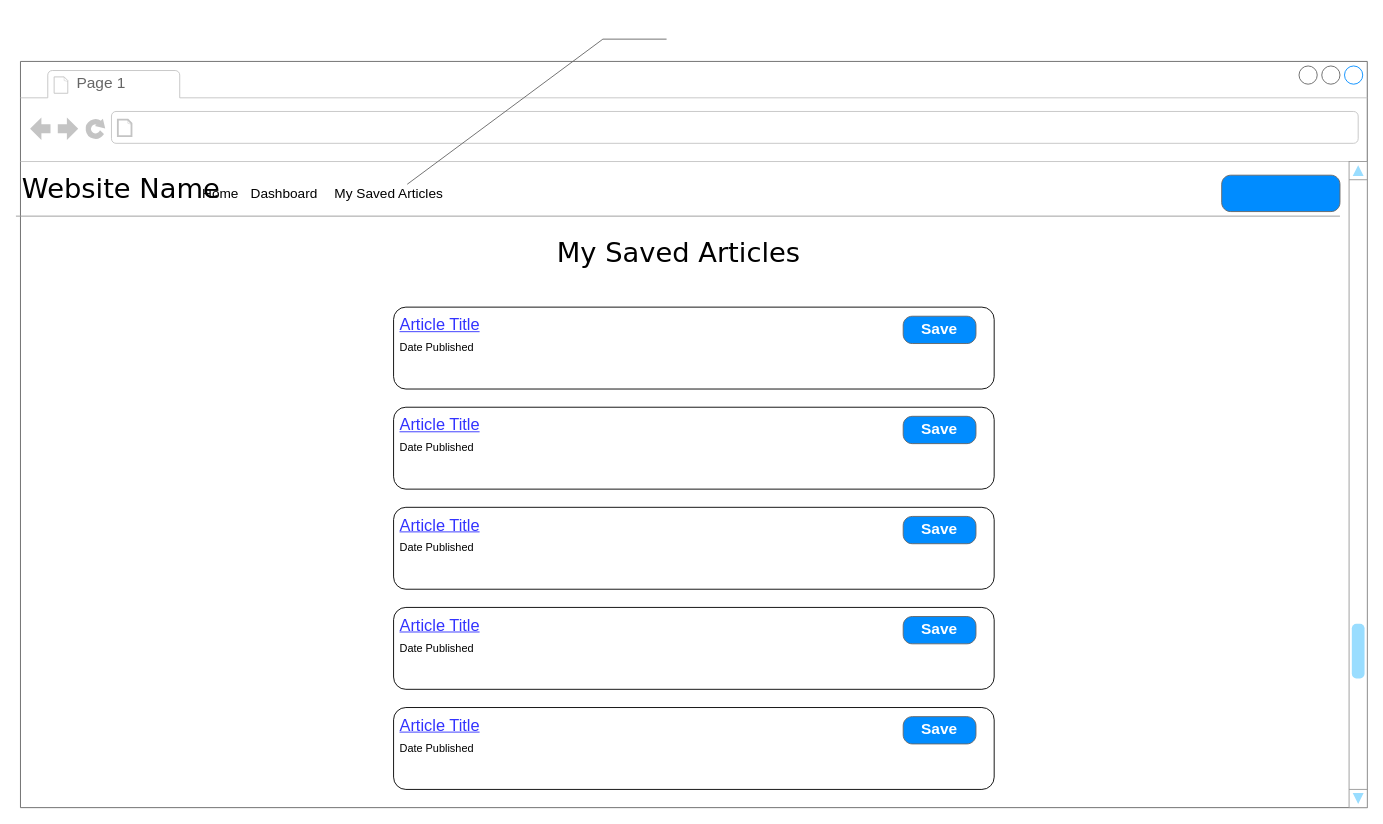
Image size: 1383x824. Some labels were removed from this diagram. The shapes that lost their labels are listed below. From the top down, each one's box as (x1, y1, x2, y2) in pixels, then its label:
(406, 15, 667, 184): Only displays if logged in
(138, 115, 366, 140): https://www.default.com
(1221, 174, 1340, 212): Login/Logout
